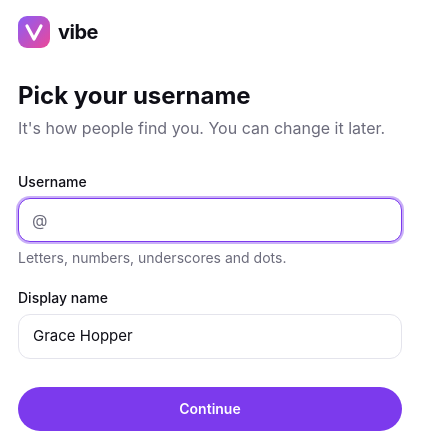
onboarding › shows server-side availability after the user stops typing
The image size is (421, 448).
Step 1. Type "grace" into the field labelled "Username" → (210, 220), box x1=18 y1=198 x2=402 y2=242
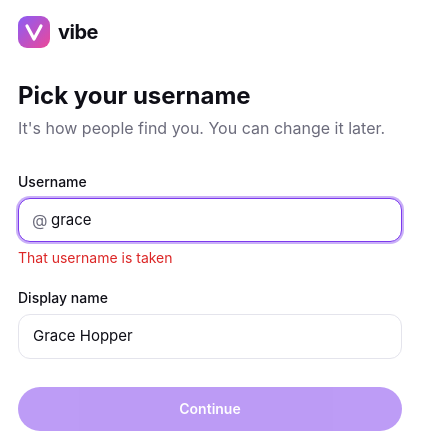
Now the text "That username is taken" is shown, box x1=18 y1=249 x2=172 y2=266
Now the button "Continue" is disabled, box x1=18 y1=386 x2=402 y2=430
